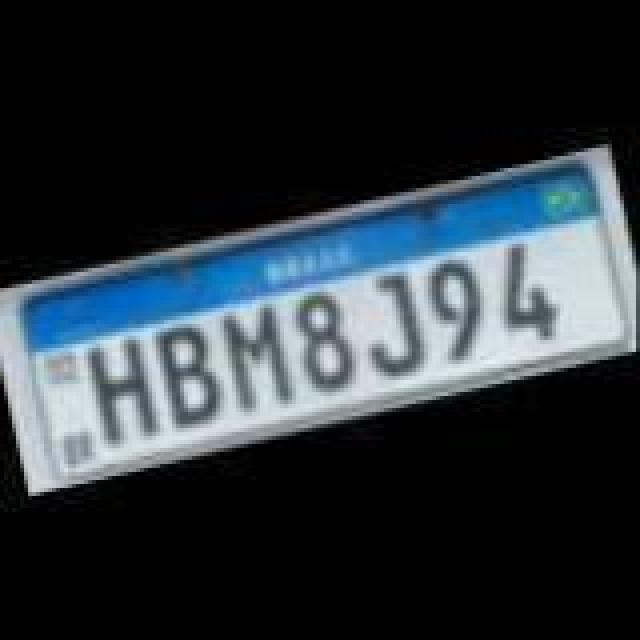4: (484, 232, 568, 352)
8: (286, 284, 366, 400)
9: (414, 248, 494, 364)
B: (152, 318, 228, 430)
H: (82, 328, 170, 448)
J: (346, 268, 434, 384)
M: (212, 294, 304, 414)
